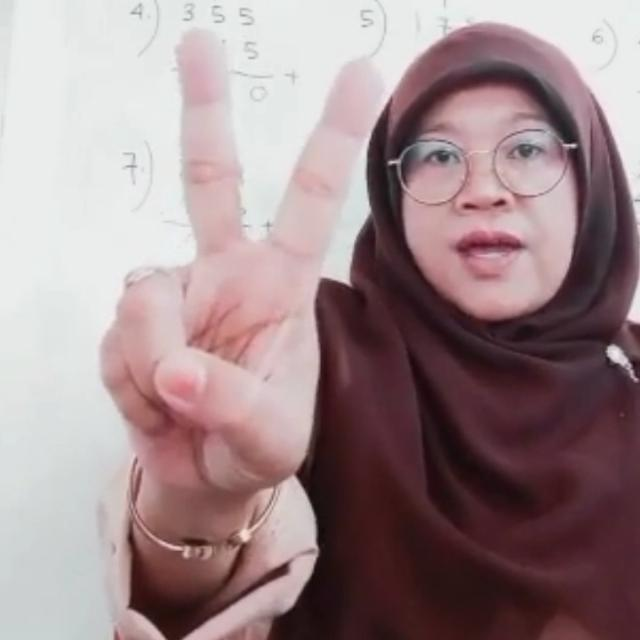V: (88, 28, 390, 486)
